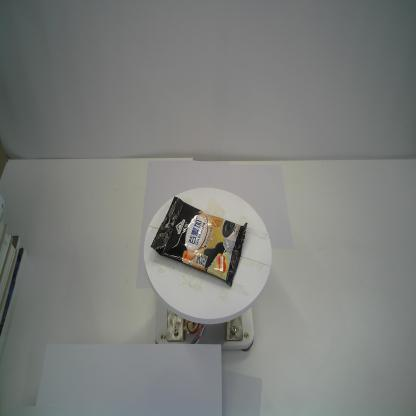Instant Drink: (150, 196, 248, 288)
